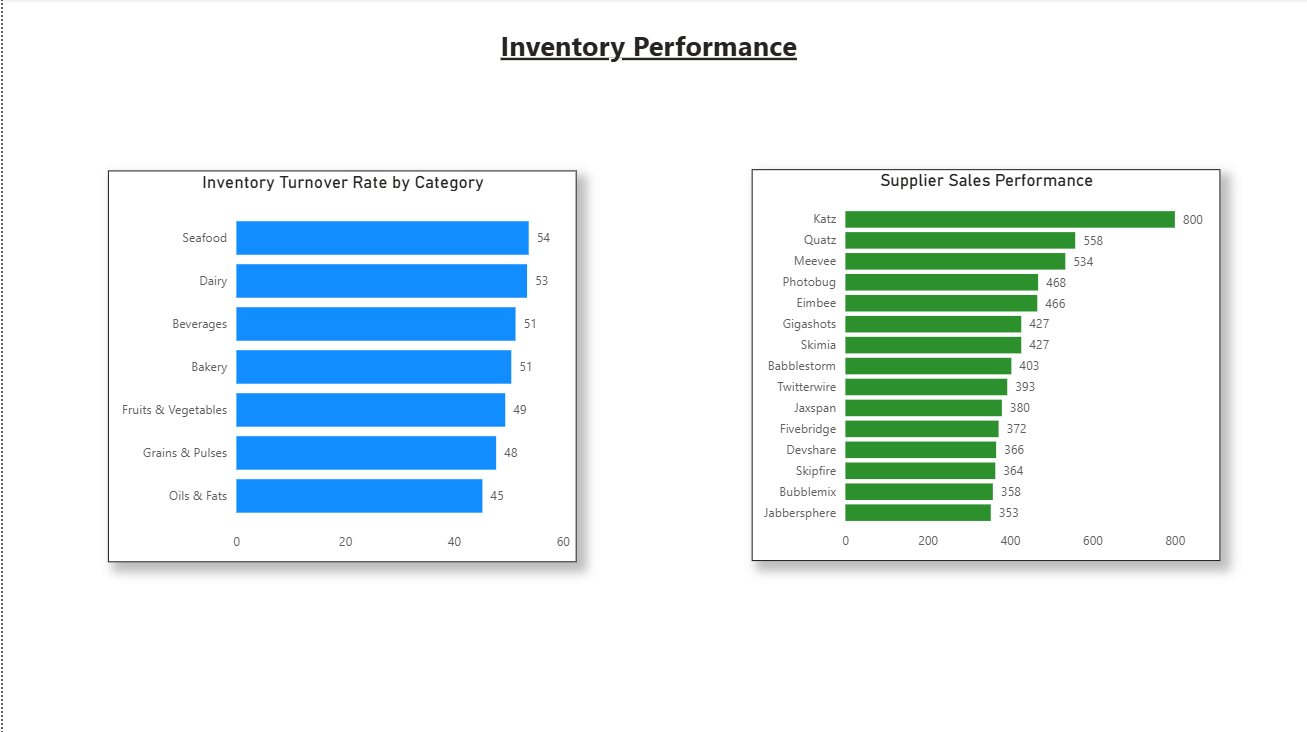

What the dashboard file says about the page in this screenshot:
{"tool":"powerbi","page":{"name":"Inventory Performance","canvas":[1280,720],"ordinal":1},"visuals":[{"type":"clusteredBarChart","title":"Inventory Turnover Rate by Category","fields":{"Category":["Query3.Catagory"],"Y":["Sum(Query3.AVG_Turnover_Rate)"]},"box":[102.9,168.8,458.3,382.8],"z":0},{"type":"clusteredBarChart","title":"Supplier Sales Performance","fields":{"Category":["Query4.Supplier_Name"],"Y":["Sum(Query4.Total_Sales_Volume)"]},"box":[732.8,167.4,458.3,382.8],"z":1},{"type":"textbox","box":[481.6,23.3,315.6,63.1],"z":2}]}

Visuals, with their boxes in screenshot pixels (x1, y1, x2, y2), scaled from the page's 1280x720 canvas onto the 1307x732 screenshot:
"Inventory Turnover Rate by Category" clusteredBarChart: pyautogui.locateOnScreen(105, 172, 573, 561)
"Supplier Sales Performance" clusteredBarChart: pyautogui.locateOnScreen(748, 170, 1216, 559)
textbox: pyautogui.locateOnScreen(492, 24, 814, 88)
